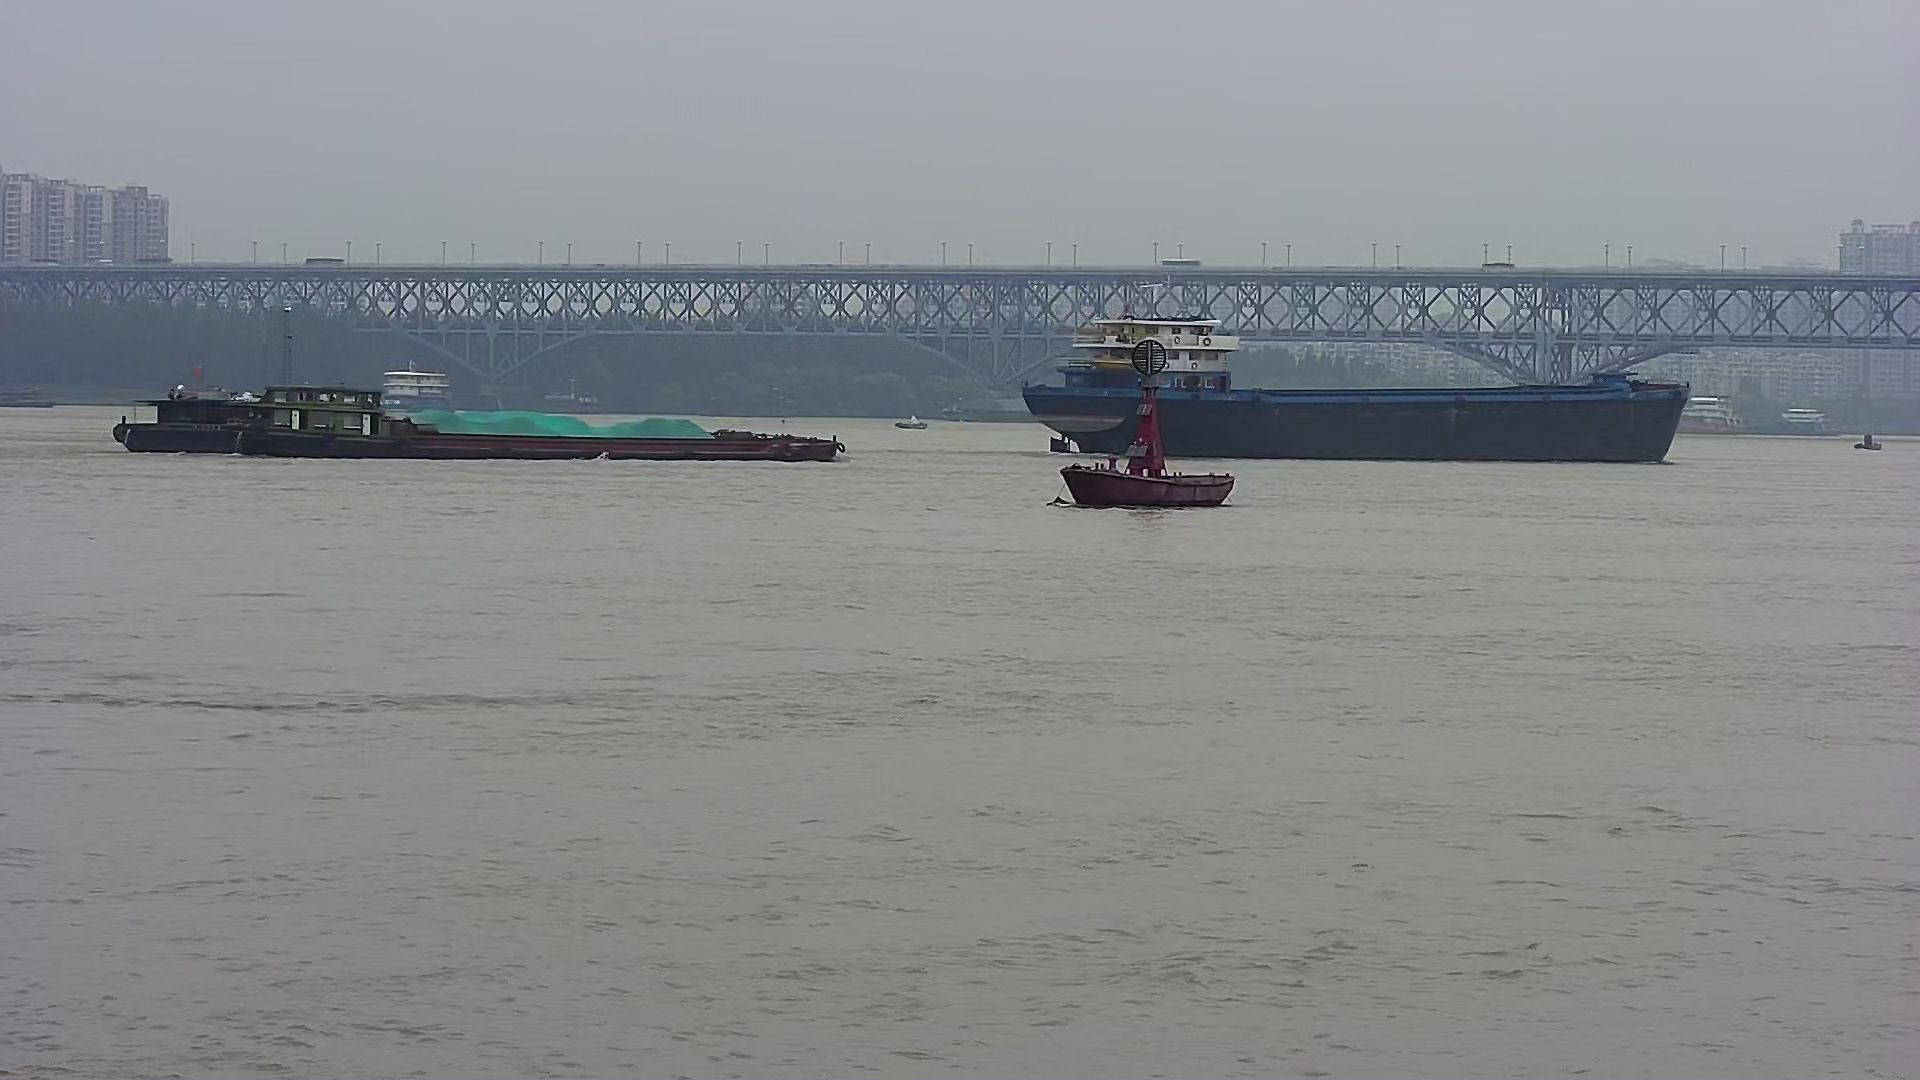boat: (1029, 334, 1250, 522), (1, 369, 70, 425), (887, 410, 940, 436), (1847, 427, 1891, 456)
bridge: (1, 245, 1920, 419)
ship: (1021, 301, 1712, 477), (218, 297, 864, 467), (102, 345, 272, 456), (371, 349, 633, 418), (1677, 382, 1764, 444), (1778, 390, 1850, 434)
